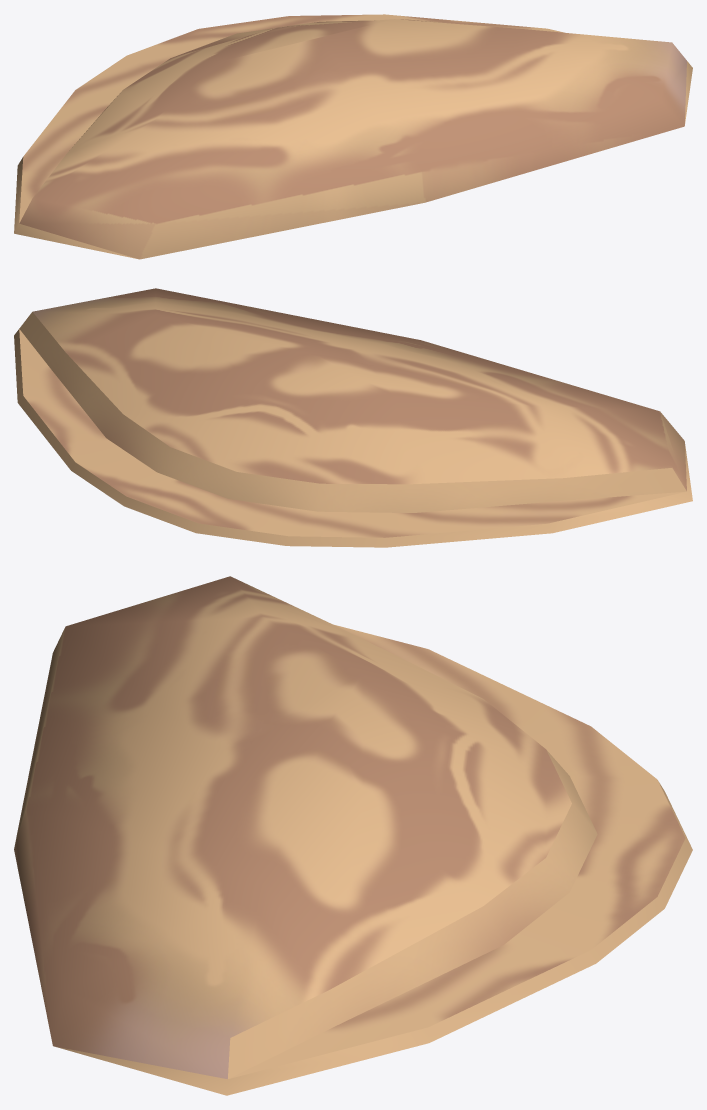
The model's file is omlette.fbx.
3 renders of one model, top to bottom at view 1: azimuth 30°, elevation 25°; view 2: azimuth 150°, elevation 25°; view 3: azimuth 270°, elevation 25°, orthographic. The views are drawn at different scales.
Visible parts, largest first — view 1: omlette; view 2: omlette; view 3: omlette.
Part boxes in pixels (x1,y1,x2,y2): omlette: [14, 14, 692, 259]; omlette: [14, 288, 692, 547]; omlette: [14, 576, 692, 1095].
Bounding box in the file's own units: 6.81 × 3.98 × 0.9887.
1 material, 1 textured.
